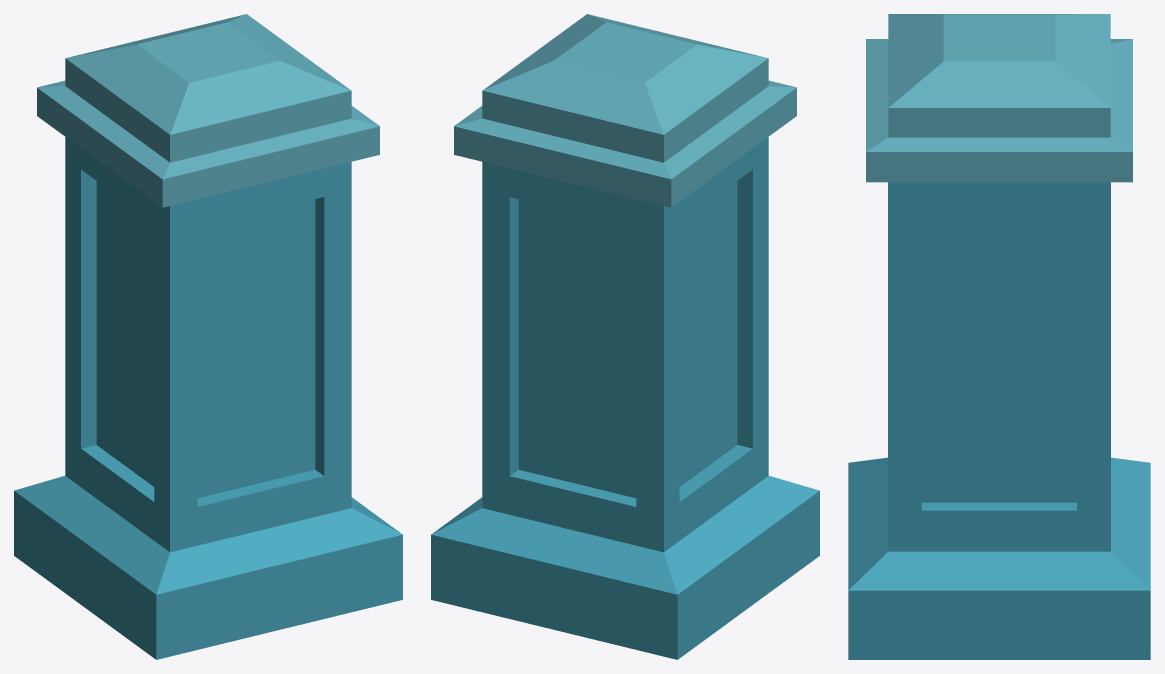
The model's file is SM_Bld_Stone_Wall_End_Top_01.glb.
The picture shows the model from 3 angles, left to right: view 1: azimuth 30°, elevation 25°; view 2: azimuth 150°, elevation 25°; view 3: azimuth 270°, elevation 25°; orthographic projection. The views are drawn at different scales.
Parts seen in each view (by area): view 1: SM_Bld_Stone_Wall_End_Top_01; view 2: SM_Bld_Stone_Wall_End_Top_01; view 3: SM_Bld_Stone_Wall_End_Top_01.
Part boxes in pixels (<box>): SM_Bld_Stone_Wall_End_Top_01: <box>14,14,402,659</box>; SM_Bld_Stone_Wall_End_Top_01: <box>431,14,819,659</box>; SM_Bld_Stone_Wall_End_Top_01: <box>848,14,1150,659</box>.
Bounding box in the file's own units: 0.00509 × 0.0104 × 0.00509.
